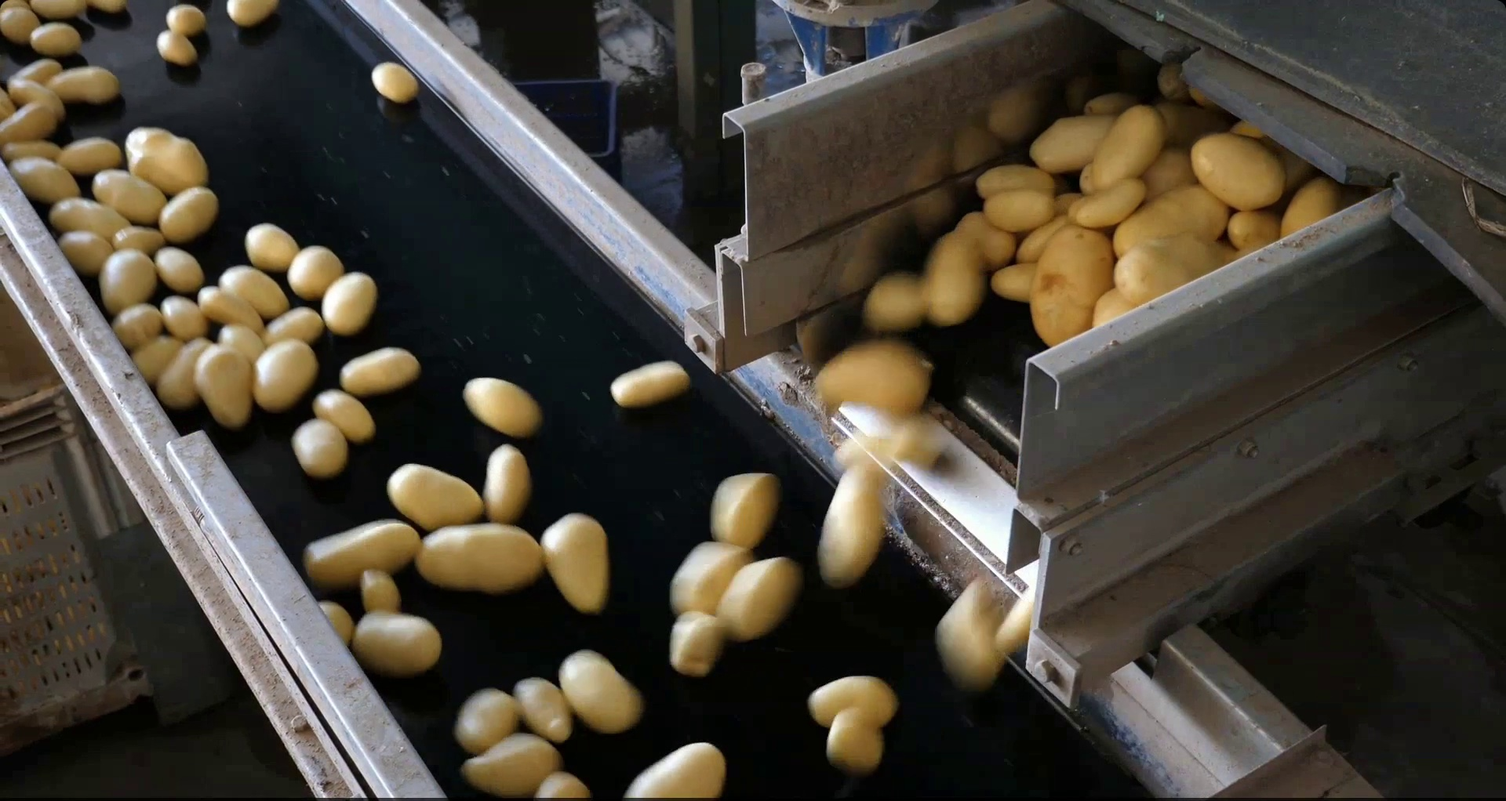potato: (1020, 210, 1121, 350), (1102, 176, 1236, 271), (1108, 227, 1241, 319), (402, 516, 551, 594), (806, 337, 940, 419), (820, 457, 893, 596), (292, 513, 423, 590), (659, 530, 763, 625), (1184, 125, 1293, 212), (535, 509, 620, 620), (609, 730, 741, 801), (711, 549, 806, 647), (554, 643, 646, 741), (700, 462, 789, 562), (930, 575, 1004, 694), (452, 730, 570, 801), (914, 224, 989, 333), (382, 457, 486, 535), (1082, 99, 1170, 190), (348, 605, 448, 683), (797, 665, 909, 732), (115, 123, 216, 197), (1024, 110, 1126, 179), (842, 265, 932, 339), (442, 679, 522, 759), (458, 367, 545, 440), (192, 342, 260, 434), (653, 605, 733, 681), (1063, 168, 1156, 233), (245, 335, 320, 415), (506, 665, 575, 750), (604, 353, 697, 416), (1276, 164, 1350, 242), (89, 167, 172, 234), (817, 701, 889, 778), (473, 439, 533, 531), (333, 341, 427, 399), (312, 263, 382, 339), (154, 334, 217, 415), (283, 415, 354, 484), (95, 245, 160, 319), (307, 385, 381, 449), (951, 205, 1020, 272), (966, 158, 1059, 207), (6, 150, 83, 209), (278, 241, 351, 303), (882, 406, 949, 473), (195, 278, 268, 339), (995, 581, 1041, 676), (215, 260, 289, 319), (1140, 140, 1209, 203), (153, 183, 225, 243), (1012, 205, 1071, 277), (42, 193, 131, 240), (39, 64, 123, 111), (828, 418, 894, 477), (107, 295, 166, 359), (1081, 281, 1148, 337), (258, 298, 326, 353), (984, 187, 1060, 236), (127, 329, 188, 390), (52, 225, 118, 280), (983, 261, 1055, 309), (239, 220, 304, 273), (5, 74, 69, 126), (313, 585, 358, 658), (52, 135, 126, 178), (209, 317, 268, 370), (353, 565, 409, 619), (153, 242, 205, 298), (1224, 205, 1282, 255), (524, 762, 598, 801), (362, 59, 421, 105), (155, 291, 207, 343), (100, 218, 170, 256), (1, 100, 55, 147), (23, 20, 85, 59), (151, 24, 201, 72), (1075, 82, 1136, 121), (1, 2, 45, 49), (220, 1, 283, 33), (159, 3, 210, 38), (1, 135, 67, 161), (8, 56, 67, 85), (1147, 60, 1189, 96), (22, 1, 87, 22), (1222, 112, 1266, 143), (83, 1, 133, 22), (1054, 187, 1080, 222), (1182, 85, 1215, 111), (1, 83, 16, 129)
